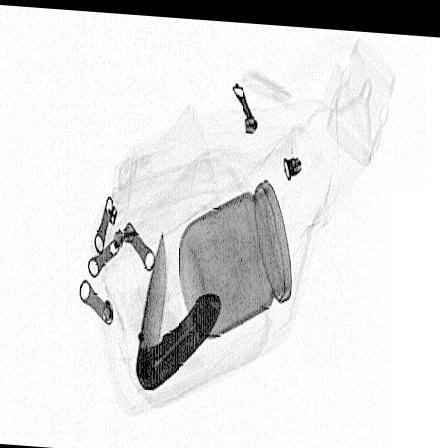Knife: (135, 225, 224, 391)
